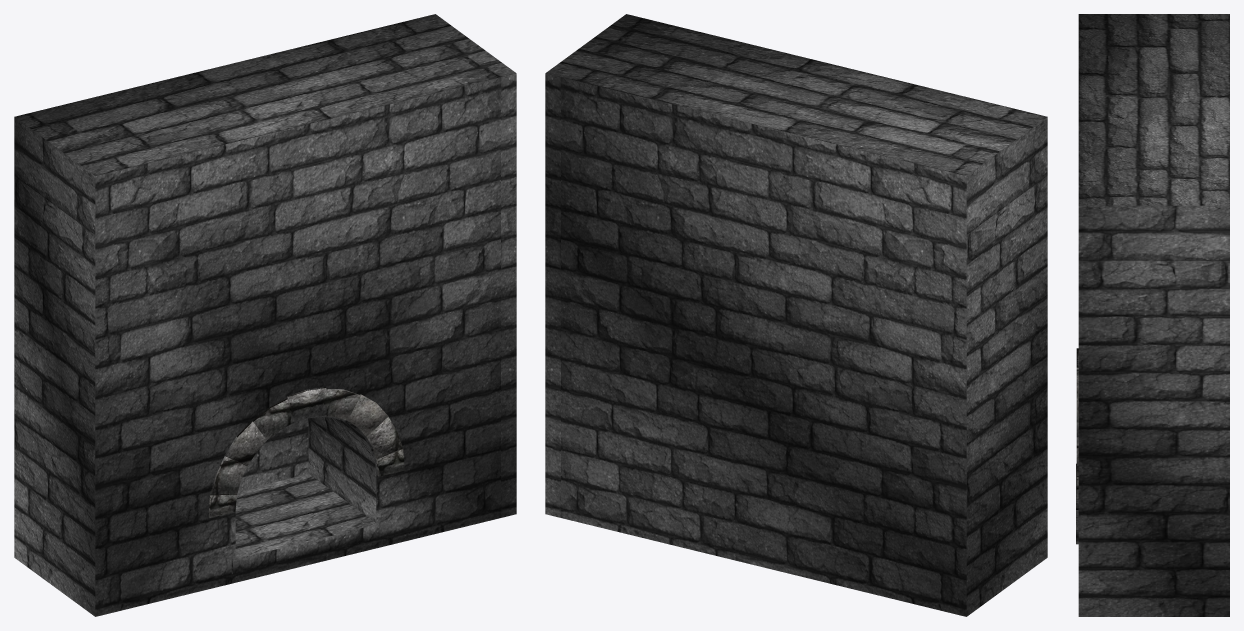
Rendered from stone wall fireplace3.glb.
3 views of the same model, side by side, from view 1: azimuth 30°, elevation 25°; view 2: azimuth 150°, elevation 25°; view 3: azimuth 270°, elevation 25° (orthographic). The views are drawn at different scales.
Parts seen in each view (by area): view 1: Fireplace, Small; view 2: Fireplace, Small; view 3: Fireplace, Small.
Boxes of the visible parts, box(x1,y1,x2,y2) form: Fireplace, Small: box(14, 14, 516, 616); Fireplace, Small: box(545, 14, 1047, 616); Fireplace, Small: box(1076, 14, 1229, 616).
Bounding box in the file's own units: 2.74 × 2.74 × 0.9302.
Materials: 2 (2 with a texture image).
